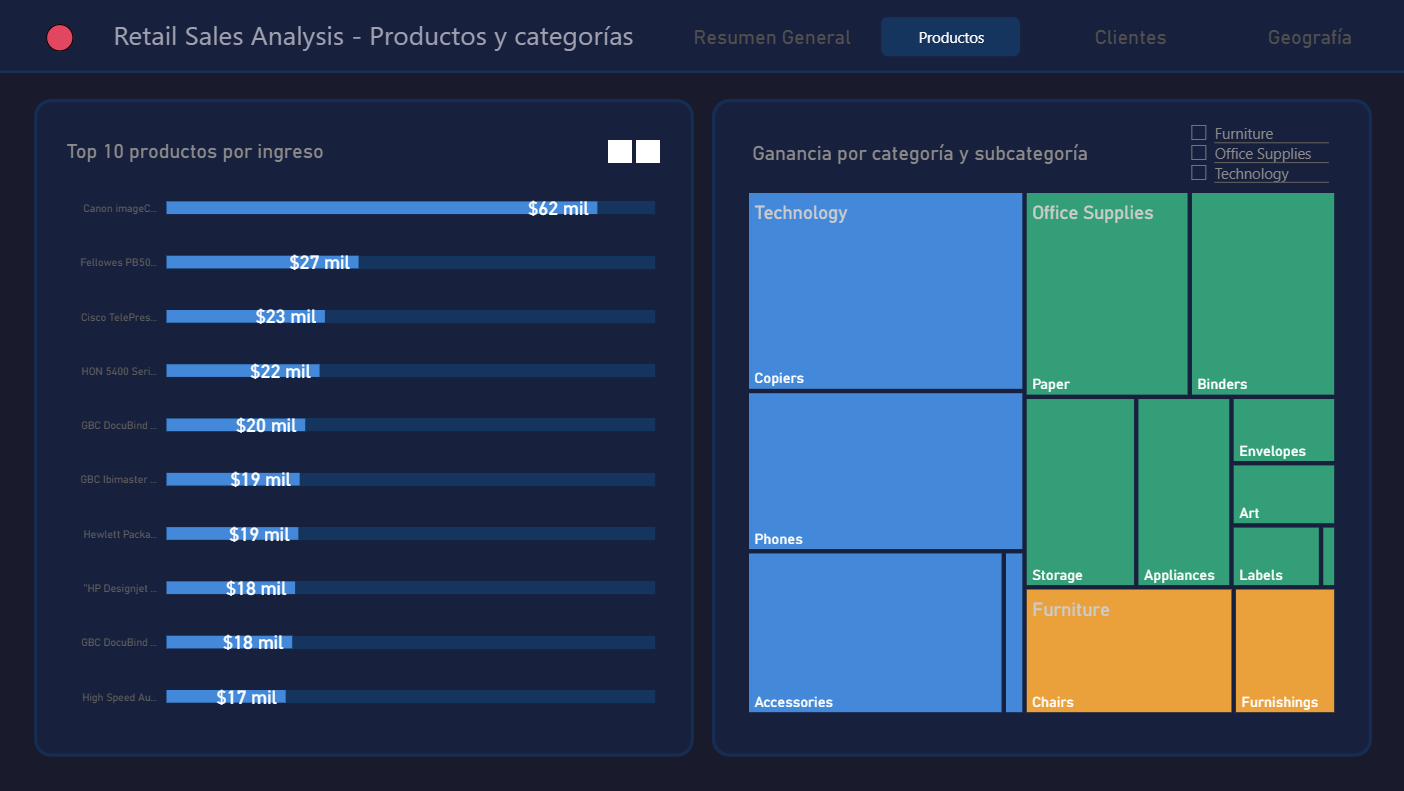

What the dashboard file says about the page in this screenshot:
{"tool":"powerbi","page":{"name":"Productos","canvas":[1280,720],"ordinal":1},"visuals":[{"type":"shape","box":[0,0,1280,66.2],"z":0},{"type":"shape","box":[0,60,1280,12.3],"z":1000},{"type":"textbox","title":"Retail Sales Analysis - Resumen General","box":[98.8,11.2,586.2,48.8],"z":2000},{"type":"shape","box":[801.2,15.9,128.2,37.6],"z":3000},{"type":"pageNavigator","box":[626.5,13.5,642.4,41.2],"z":4000},{"type":"shape","box":[43,23,25,25],"z":5000},{"type":"shape","box":[32,91,600,598],"z":6000},{"type":"shape","box":[648,91,600,598],"z":7000},{"type":"shape","box":[152,183.3,444.7,12],"z":8000},{"type":"shape","box":[152,233.3,444.7,12],"z":9000},{"type":"shape","box":[152,282.7,444.7,12],"z":10000},{"type":"shape","box":[152,332,444.7,12],"z":11000},{"type":"shape","box":[152,380.7,444.7,12],"z":12000},{"type":"shape","box":[152,430.7,444.7,12],"z":13000},{"type":"shape","box":[152,480,444.7,12],"z":14000},{"type":"shape","box":[152,529.3,444.7,12],"z":15000},{"type":"shape","box":[152,578.7,444.7,12],"z":16000},{"type":"shape","box":[152,628,444.7,12],"z":17000},{"type":"clusteredBarChart","title":"Top 10 productos por ingreso","fields":{"Y":["Sum(vw_ventas_por_producto.Ingresos)"],"Category":["vw_ventas_por_producto.ProductName"]},"box":[56,127,546,538],"z":18000},{"type":"textbox","title":"Ganancia por categoría y subcategoría","box":[680,128.9,371.1,26.7],"z":19000},{"type":"treemap","fields":{"Group":["vw_ventas_por_categoria.Category"],"Values":["Sum(vw_ventas_por_categoria.Ganancia)"],"Details":["vw_ventas_por_categoria.SubCategory"]},"box":[682,176,532,472],"z":20000},{"type":"slicer","fields":{"Values":["vw_ventas_por_categoria.Category"]},"box":[1071,108,143,67],"z":22000}]}

Visuals, with their boxes in screenshot pixels (x1, y1, x2, y2), scaled from the page's 1280x720 canvas onto the 1404x791 screenshot:
shape: bbox=(0, 0, 1403, 73)
shape: bbox=(0, 66, 1403, 79)
"Retail Sales Analysis - Resumen General" textbox: bbox=(108, 12, 751, 66)
shape: bbox=(879, 17, 1019, 59)
pageNavigator: bbox=(687, 15, 1392, 60)
shape: bbox=(47, 25, 75, 53)
shape: bbox=(35, 100, 693, 757)
shape: bbox=(711, 100, 1369, 757)
shape: bbox=(167, 201, 655, 215)
shape: bbox=(167, 256, 655, 269)
shape: bbox=(167, 311, 655, 324)
shape: bbox=(167, 365, 655, 378)
shape: bbox=(167, 418, 655, 431)
shape: bbox=(167, 473, 655, 486)
shape: bbox=(167, 527, 655, 541)
shape: bbox=(167, 581, 655, 595)
shape: bbox=(167, 636, 655, 649)
shape: bbox=(167, 690, 655, 703)
"Top 10 productos por ingreso" clusteredBarChart: bbox=(61, 140, 660, 731)
"Ganancia por categoría y subcategoría" textbox: bbox=(746, 142, 1153, 171)
treemap - vw_ventas_por_categoria.Category x Sum(vw_ventas_por_categoria.Ganancia): bbox=(748, 193, 1332, 712)
slicer - vw_ventas_por_categoria.Category: bbox=(1175, 119, 1332, 192)
